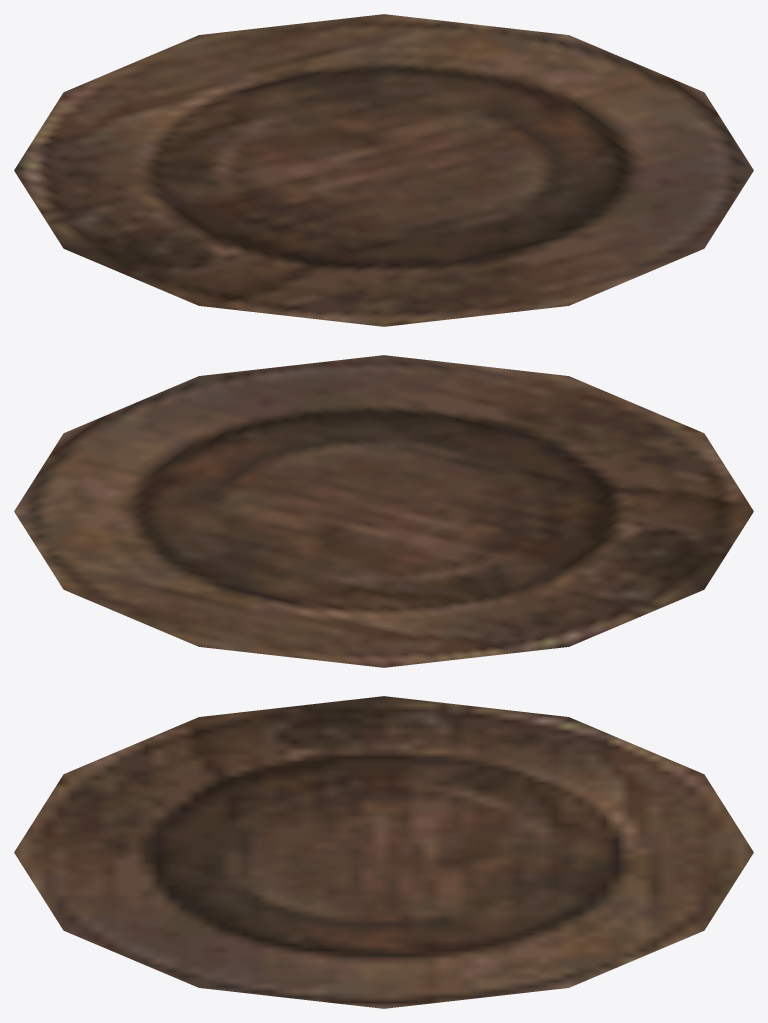
The model's file is dish.fbx.
3 renders of one model, top to bottom at view 1: azimuth 30°, elevation 25°; view 2: azimuth 150°, elevation 25°; view 3: azimuth 270°, elevation 25°, orthographic.
Parts seen in each view (by area): view 1: LV_Common_Object_B_Dish01_SM_NWCJAS; view 2: LV_Common_Object_B_Dish01_SM_NWCJAS; view 3: LV_Common_Object_B_Dish01_SM_NWCJAS.
Part boxes in pixels (x1,y1,x2,y2): LV_Common_Object_B_Dish01_SM_NWCJAS: (14,14,753,326); LV_Common_Object_B_Dish01_SM_NWCJAS: (14,355,753,667); LV_Common_Object_B_Dish01_SM_NWCJAS: (14,696,753,1008).
Size of the model in its own units: 8.8 by 0.6201 by 8.8.
